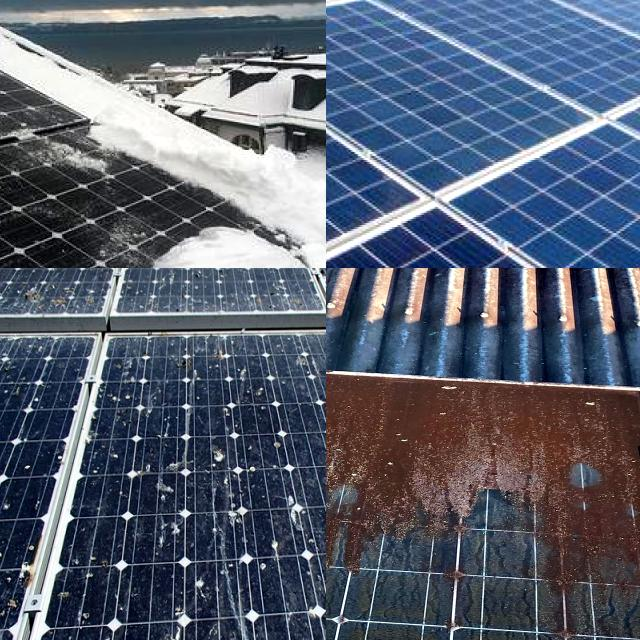bird: (150, 436, 180, 502), (144, 618, 190, 640), (0, 504, 14, 565)
crack: (326, 0, 606, 203), (365, 0, 640, 128), (326, 159, 640, 268), (408, 123, 640, 268), (382, 0, 640, 123), (502, 0, 640, 91)
dust: (439, 382, 640, 632), (326, 366, 420, 623), (326, 365, 393, 598)
panel: (160, 172, 301, 255), (0, 88, 106, 192), (0, 72, 71, 217), (121, 97, 231, 177), (0, 0, 49, 41)
